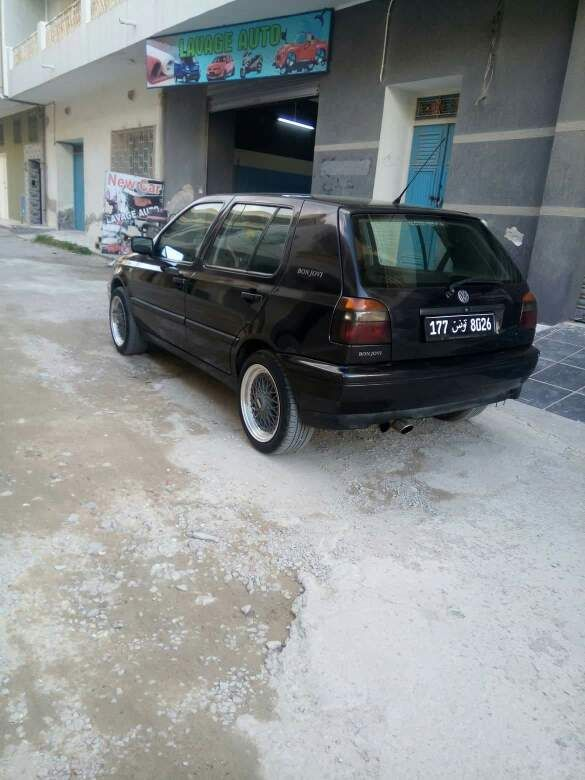LP: (425, 317, 494, 335)
